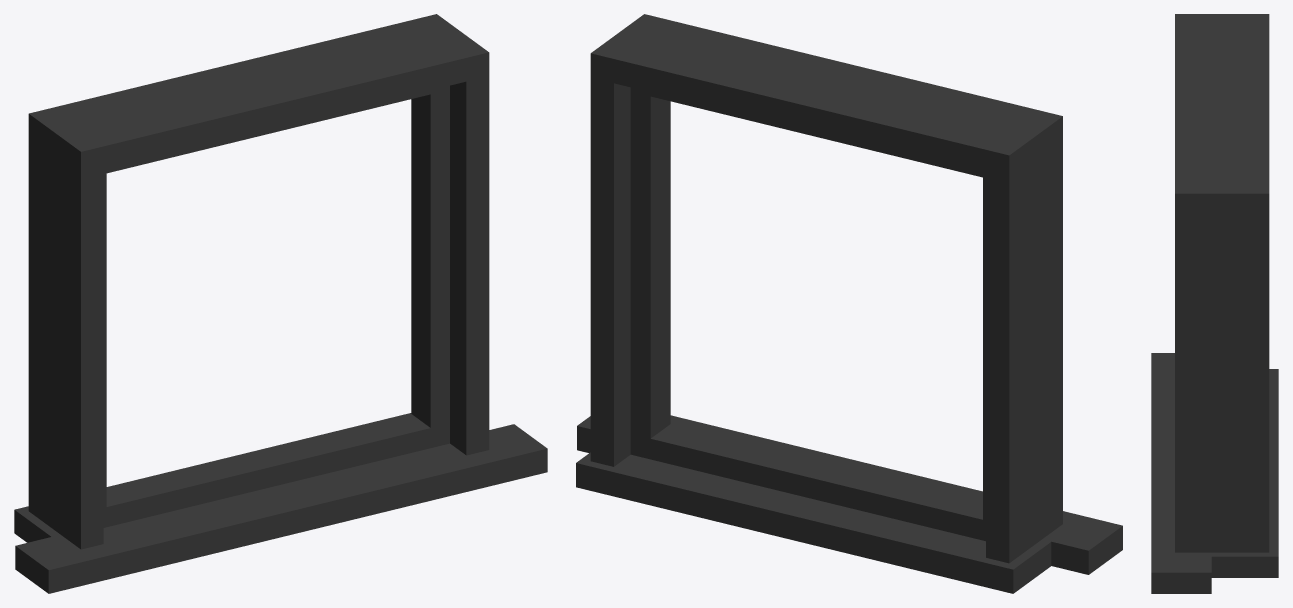
Rendered from Window6_04.fbx.
3 renders of one model, left to right at view 1: azimuth 30°, elevation 25°; view 2: azimuth 150°, elevation 25°; view 3: azimuth 270°, elevation 25°, orthographic. The views are drawn at different scales.
Visible parts, largest first — view 1: Window6_04; view 2: Window6_04; view 3: Window6_04.
Boxes of the visible parts, x1,y1,x2,y2 form: Window6_04: (14, 14, 547, 593); Window6_04: (576, 14, 1122, 593); Window6_04: (1151, 14, 1278, 593).
Size of the model in its own units: 1.1 by 0.8881 by 0.27.
